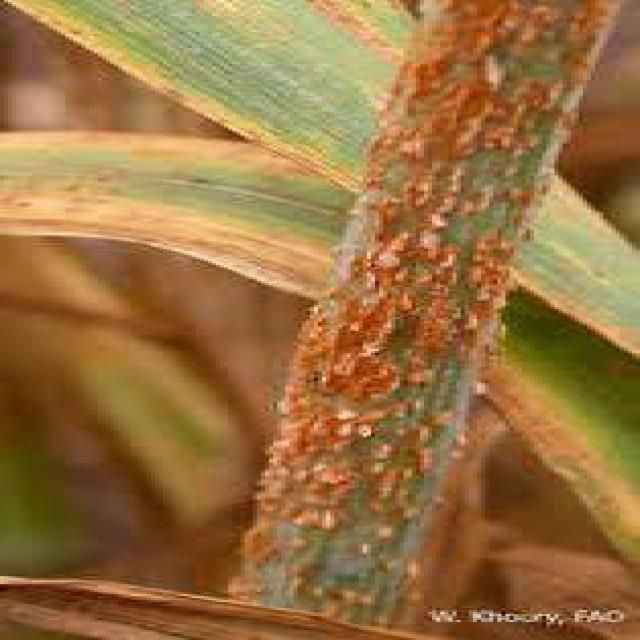Stem_Rust: (263, 0, 574, 640)
